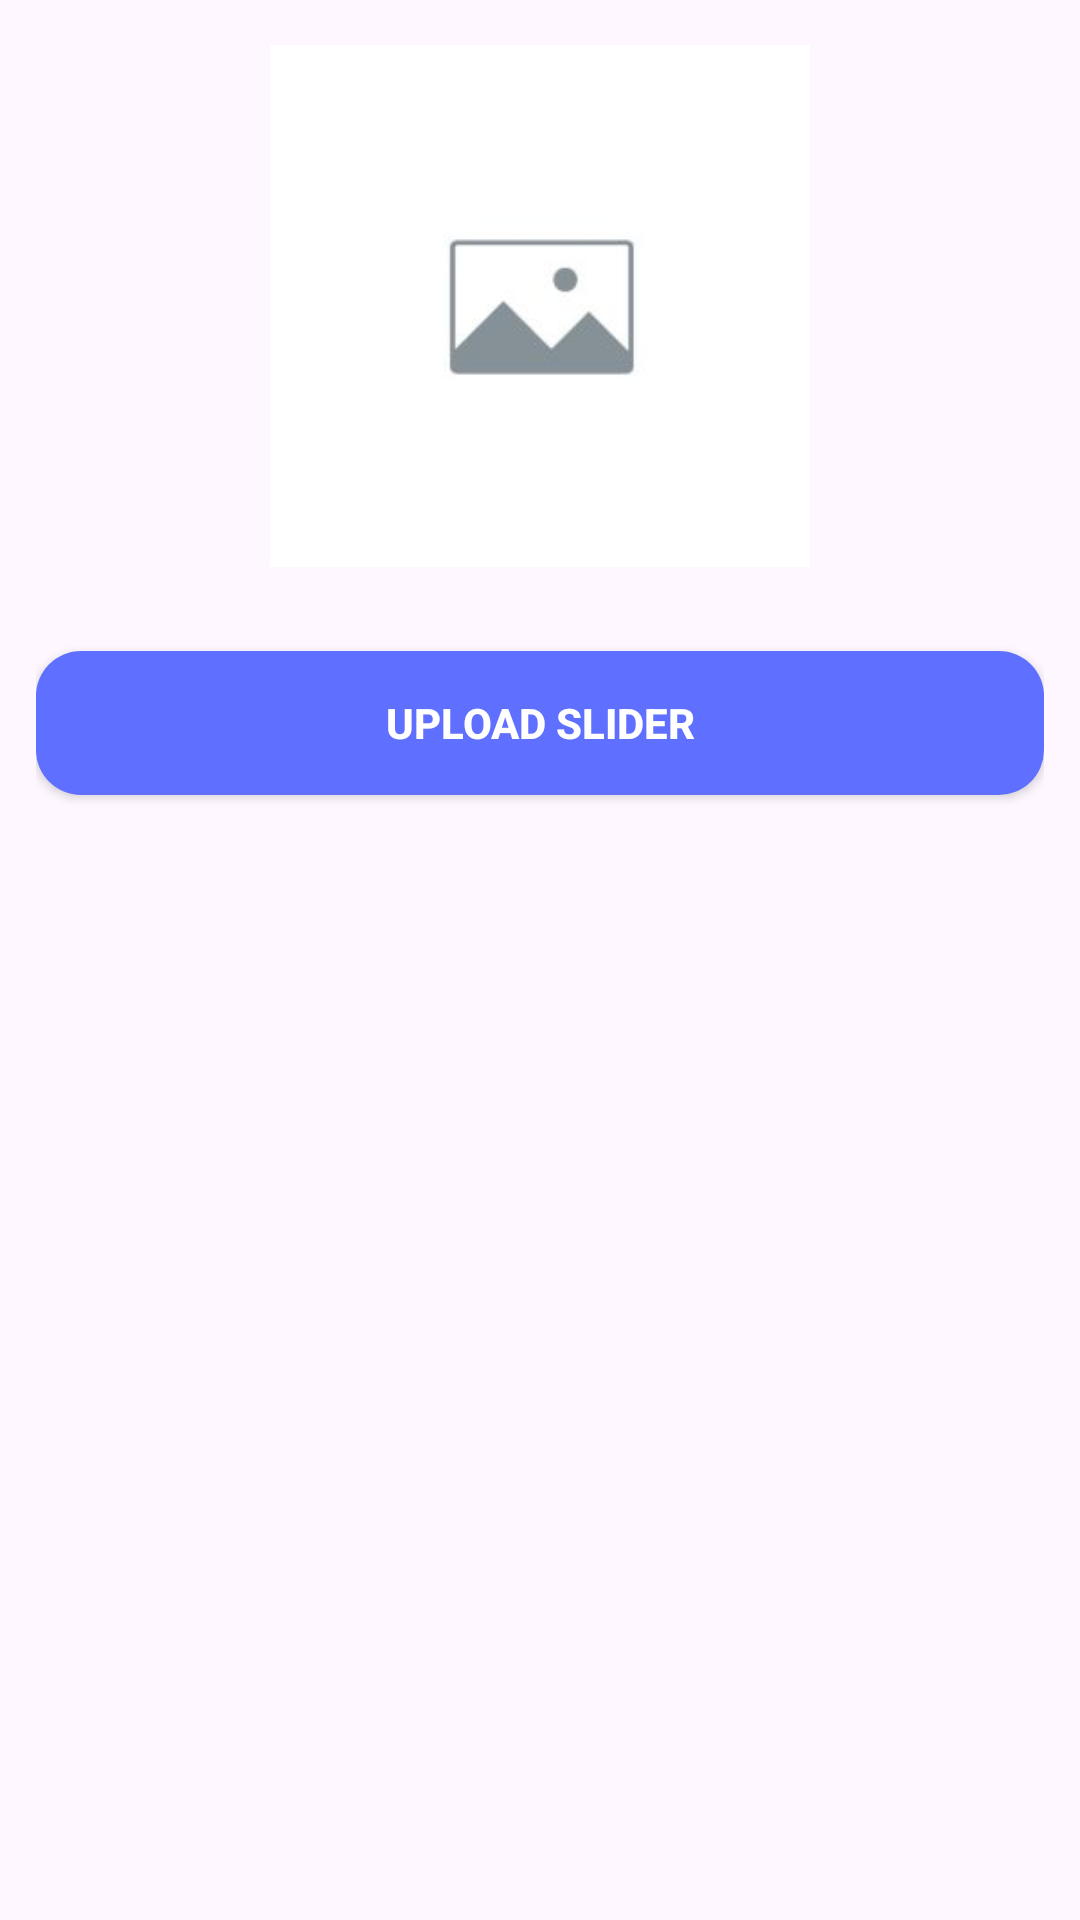

Named icons in this screenshot (1080×1920) and their bounding boxes, (x1, y1, x2, y2):
imagep: (449, 239, 634, 375)
